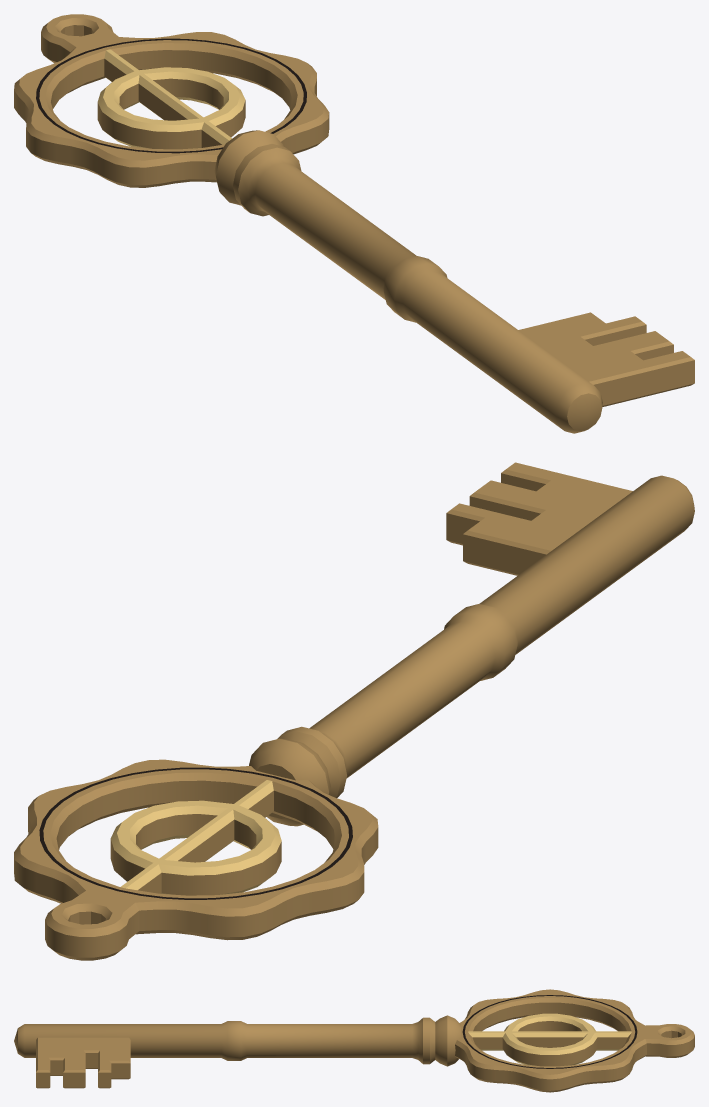
Rendered from key_strand.glb.
3 renders of one model, top to bottom at view 1: azimuth 30°, elevation 25°; view 2: azimuth 150°, elevation 25°; view 3: azimuth 270°, elevation 25°, orthographic. The views are drawn at different scales.
Parts seen in each view (by area): view 1: key_shaft, key_strand; view 2: key_strand, key_shaft; view 3: key_shaft, key_strand.
Part boxes in pixels (left/top/right/bottom): key_shaft: left=36, top=38, right=694, bottom=433; key_strand: left=14, top=14, right=329, bottom=187; key_strand: left=14, top=759, right=378, bottom=960; key_shaft: left=39, top=462, right=694, bottom=899; key_shaft: left=14, top=995, right=637, bottom=1088; key_strand: left=455, top=989, right=694, bottom=1092.
Bounding box in the file's own units: 0.043 × 0.0105 × 0.14.
